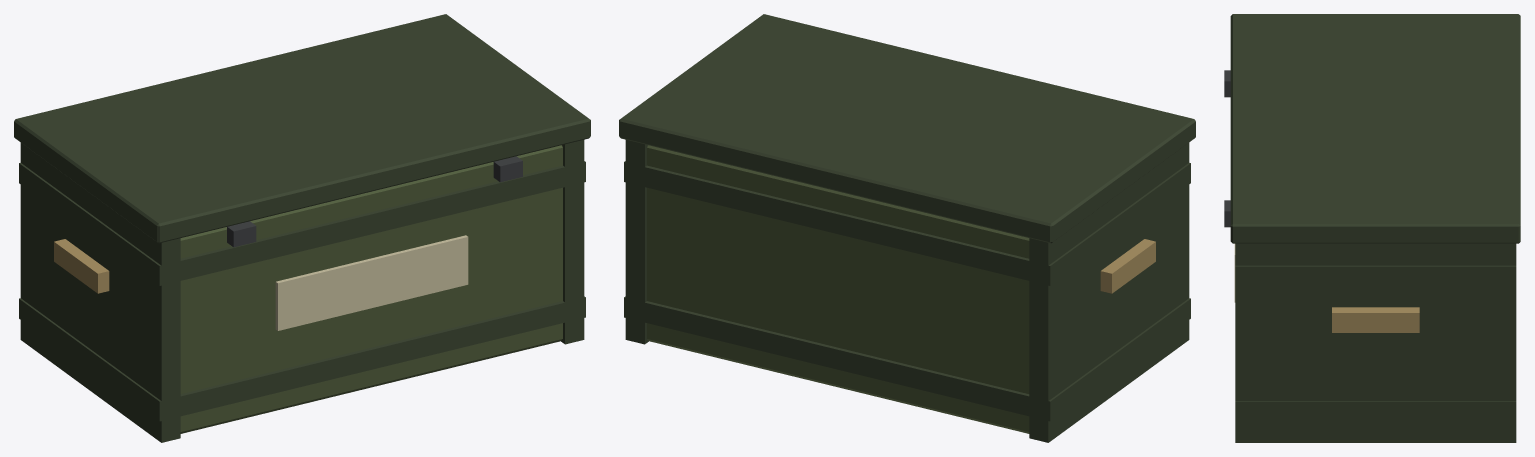
Rendered from crate_army.glb.
3 renders of one model, left to right at view 1: azimuth 30°, elevation 25°; view 2: azimuth 150°, elevation 25°; view 3: azimuth 270°, elevation 25°, orthographic.
Visible parts, largest first — view 1: CrateArmy; view 2: CrateArmy; view 3: CrateArmy.
Part boxes in pixels (left/top/right/bottom): CrateArmy: left=14, top=14, right=590, bottom=442; CrateArmy: left=619, top=14, right=1195, bottom=442; CrateArmy: left=1224, top=14, right=1520, bottom=442.
Bounding box in the file's own units: 1.19 × 0.555 × 0.675.
